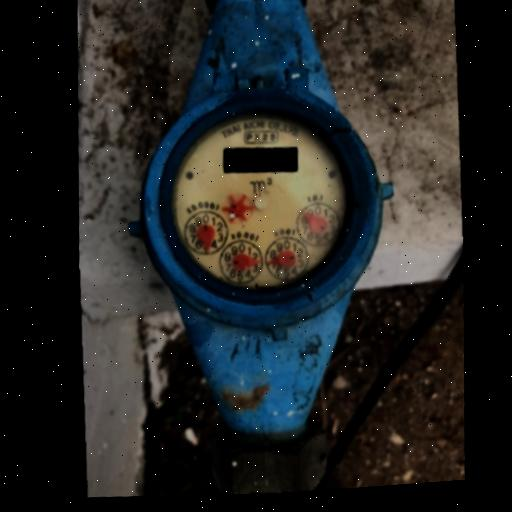0: (260, 147, 279, 172)
1: (223, 147, 244, 174), (242, 147, 261, 173)
5: (278, 147, 299, 172)
border_water_meter_number: (222, 142, 299, 178)
